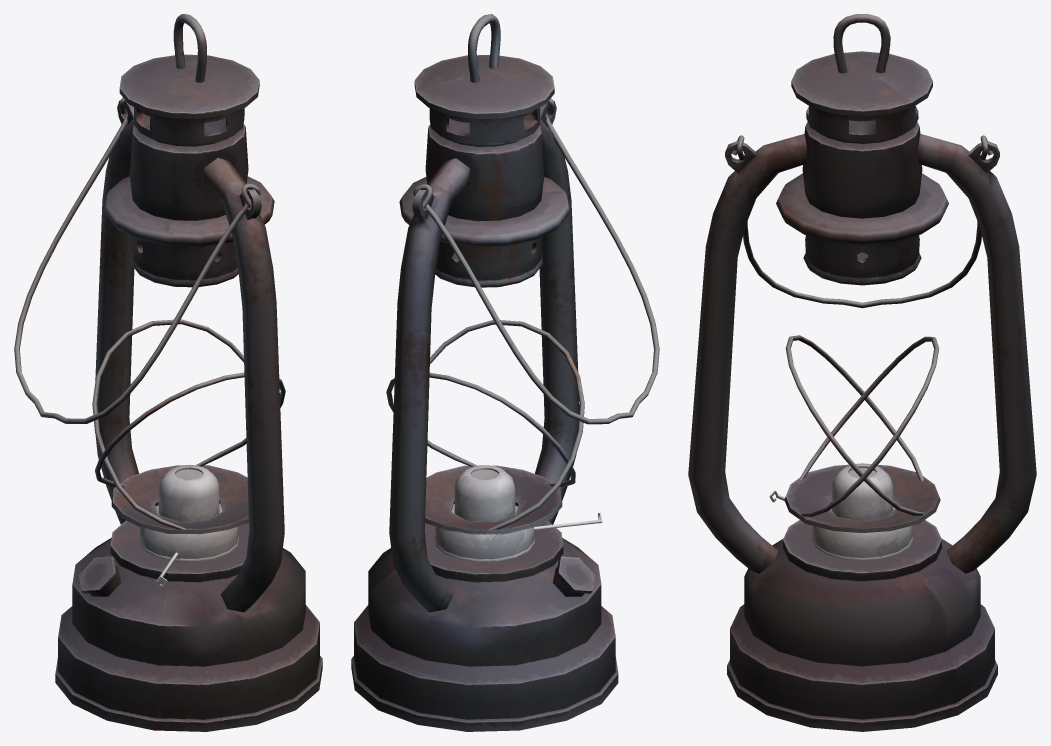
Rendered from Prop_Lamp_Fabi_M_embeddedTextures.fbx.
3 views of the same model, side by side, from view 1: azimuth 30°, elevation 25°; view 2: azimuth 150°, elevation 25°; view 3: azimuth 270°, elevation 25° (orthographic).
Visible parts, largest first — view 1: ALS_Lamp; view 2: ALS_Lamp; view 3: ALS_Lamp.
Boxes of the visible parts, x1,y1,x2,y2 form: ALS_Lamp: (14,14,322,731); ALS_Lamp: (351,14,659,731); ALS_Lamp: (688,14,1036,731).
Size of the model in its own units: 14.05 by 33.32 by 15.92.
2 materials, 2 textured.
